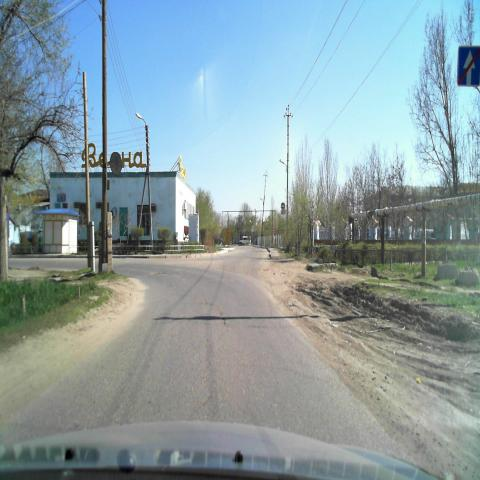5_6: (458, 44, 480, 86)
